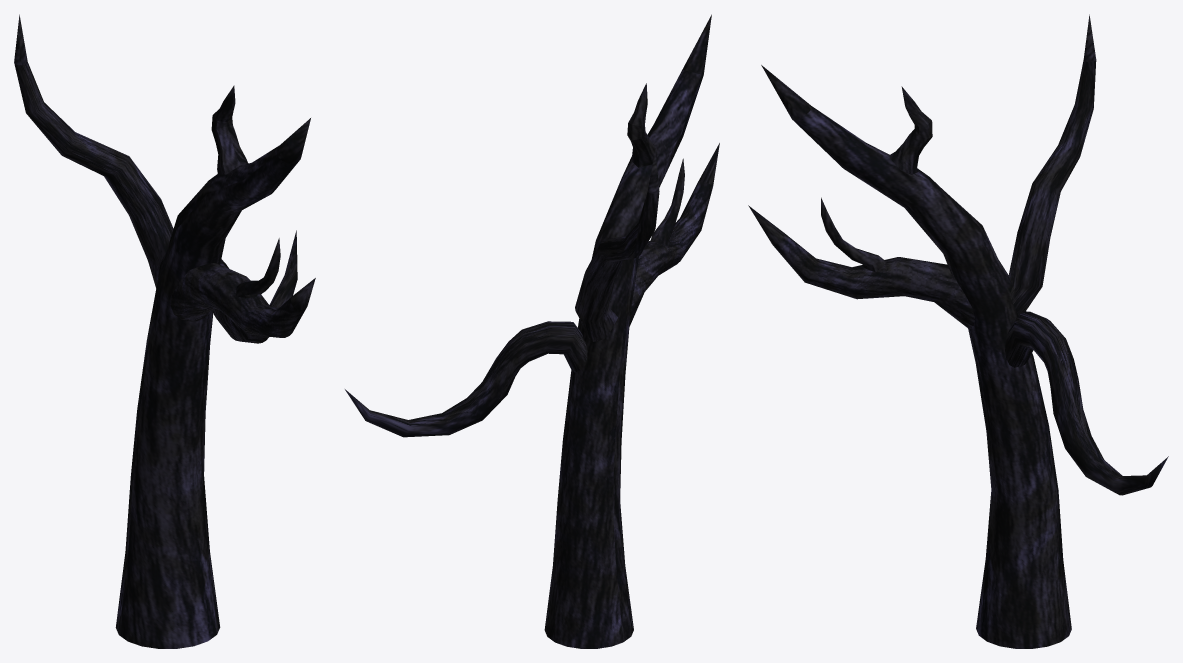
Rendered from tree.FBX.
3 views of the same model, side by side, from view 1: azimuth 30°, elevation 25°; view 2: azimuth 150°, elevation 25°; view 3: azimuth 270°, elevation 25° (orthographic). The views are drawn at different scales.
Visible parts, largest first — view 1: Cylinder004; view 2: Cylinder004; view 3: Cylinder004.
Boxes of the visible parts, box(x1,y1,x2,y2) form: Cylinder004: box(14, 14, 315, 648); Cylinder004: box(345, 14, 719, 648); Cylinder004: box(748, 14, 1168, 648).
Bounding box in the file's own units: 108 × 196 × 133.
Materials: 1 (1 with a texture image).
